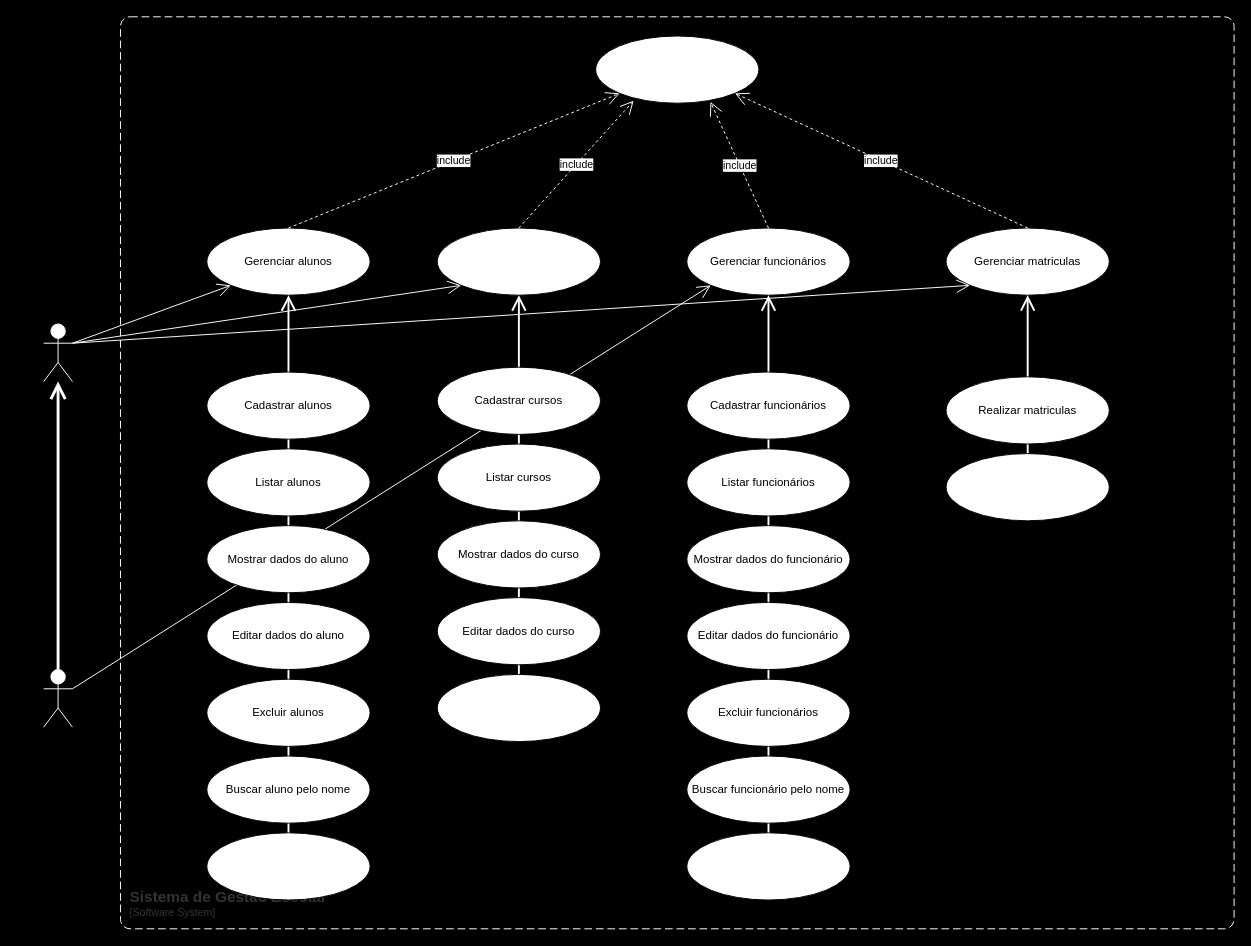
Some shapes in this 1251 by 946 pixel diagram are drawn without their labels. Here are the shapes that lost their labels. From the top down, the centre of each, then its label:
At point 677,69: "Login de usuários".
At point 518,261: "Gerenciar cursos".
At point 57,352: "Colaboradores".
At point 1027,487: "Excluir matriculas".
At point 57,698: "Administradores".
At point 518,707: "Excluir cursos".
At point 288,866: "Buscar aluno pelo CPF".
At point 768,866: "Buscar funcionário pelo CPF".
